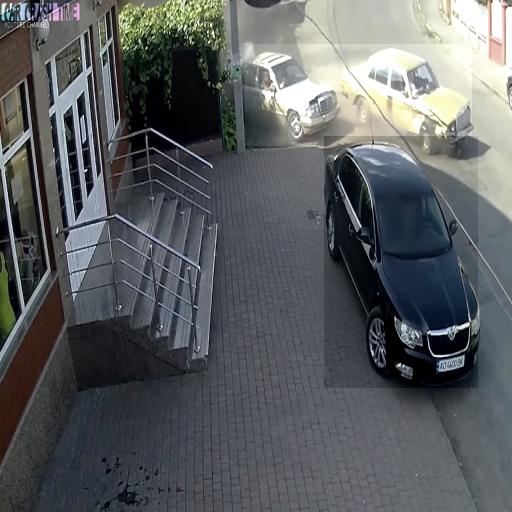小汽车: (324, 136, 478, 388)
小汽车撞小汽车: (245, 44, 472, 146)
